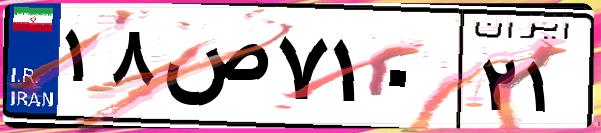0: (385, 28, 445, 110)
1: (330, 28, 385, 110), (57, 26, 110, 100), (525, 38, 570, 115)
2: (475, 38, 525, 113)
7: (270, 28, 330, 110)
8: (110, 28, 158, 98)
ص: (158, 20, 270, 120)
